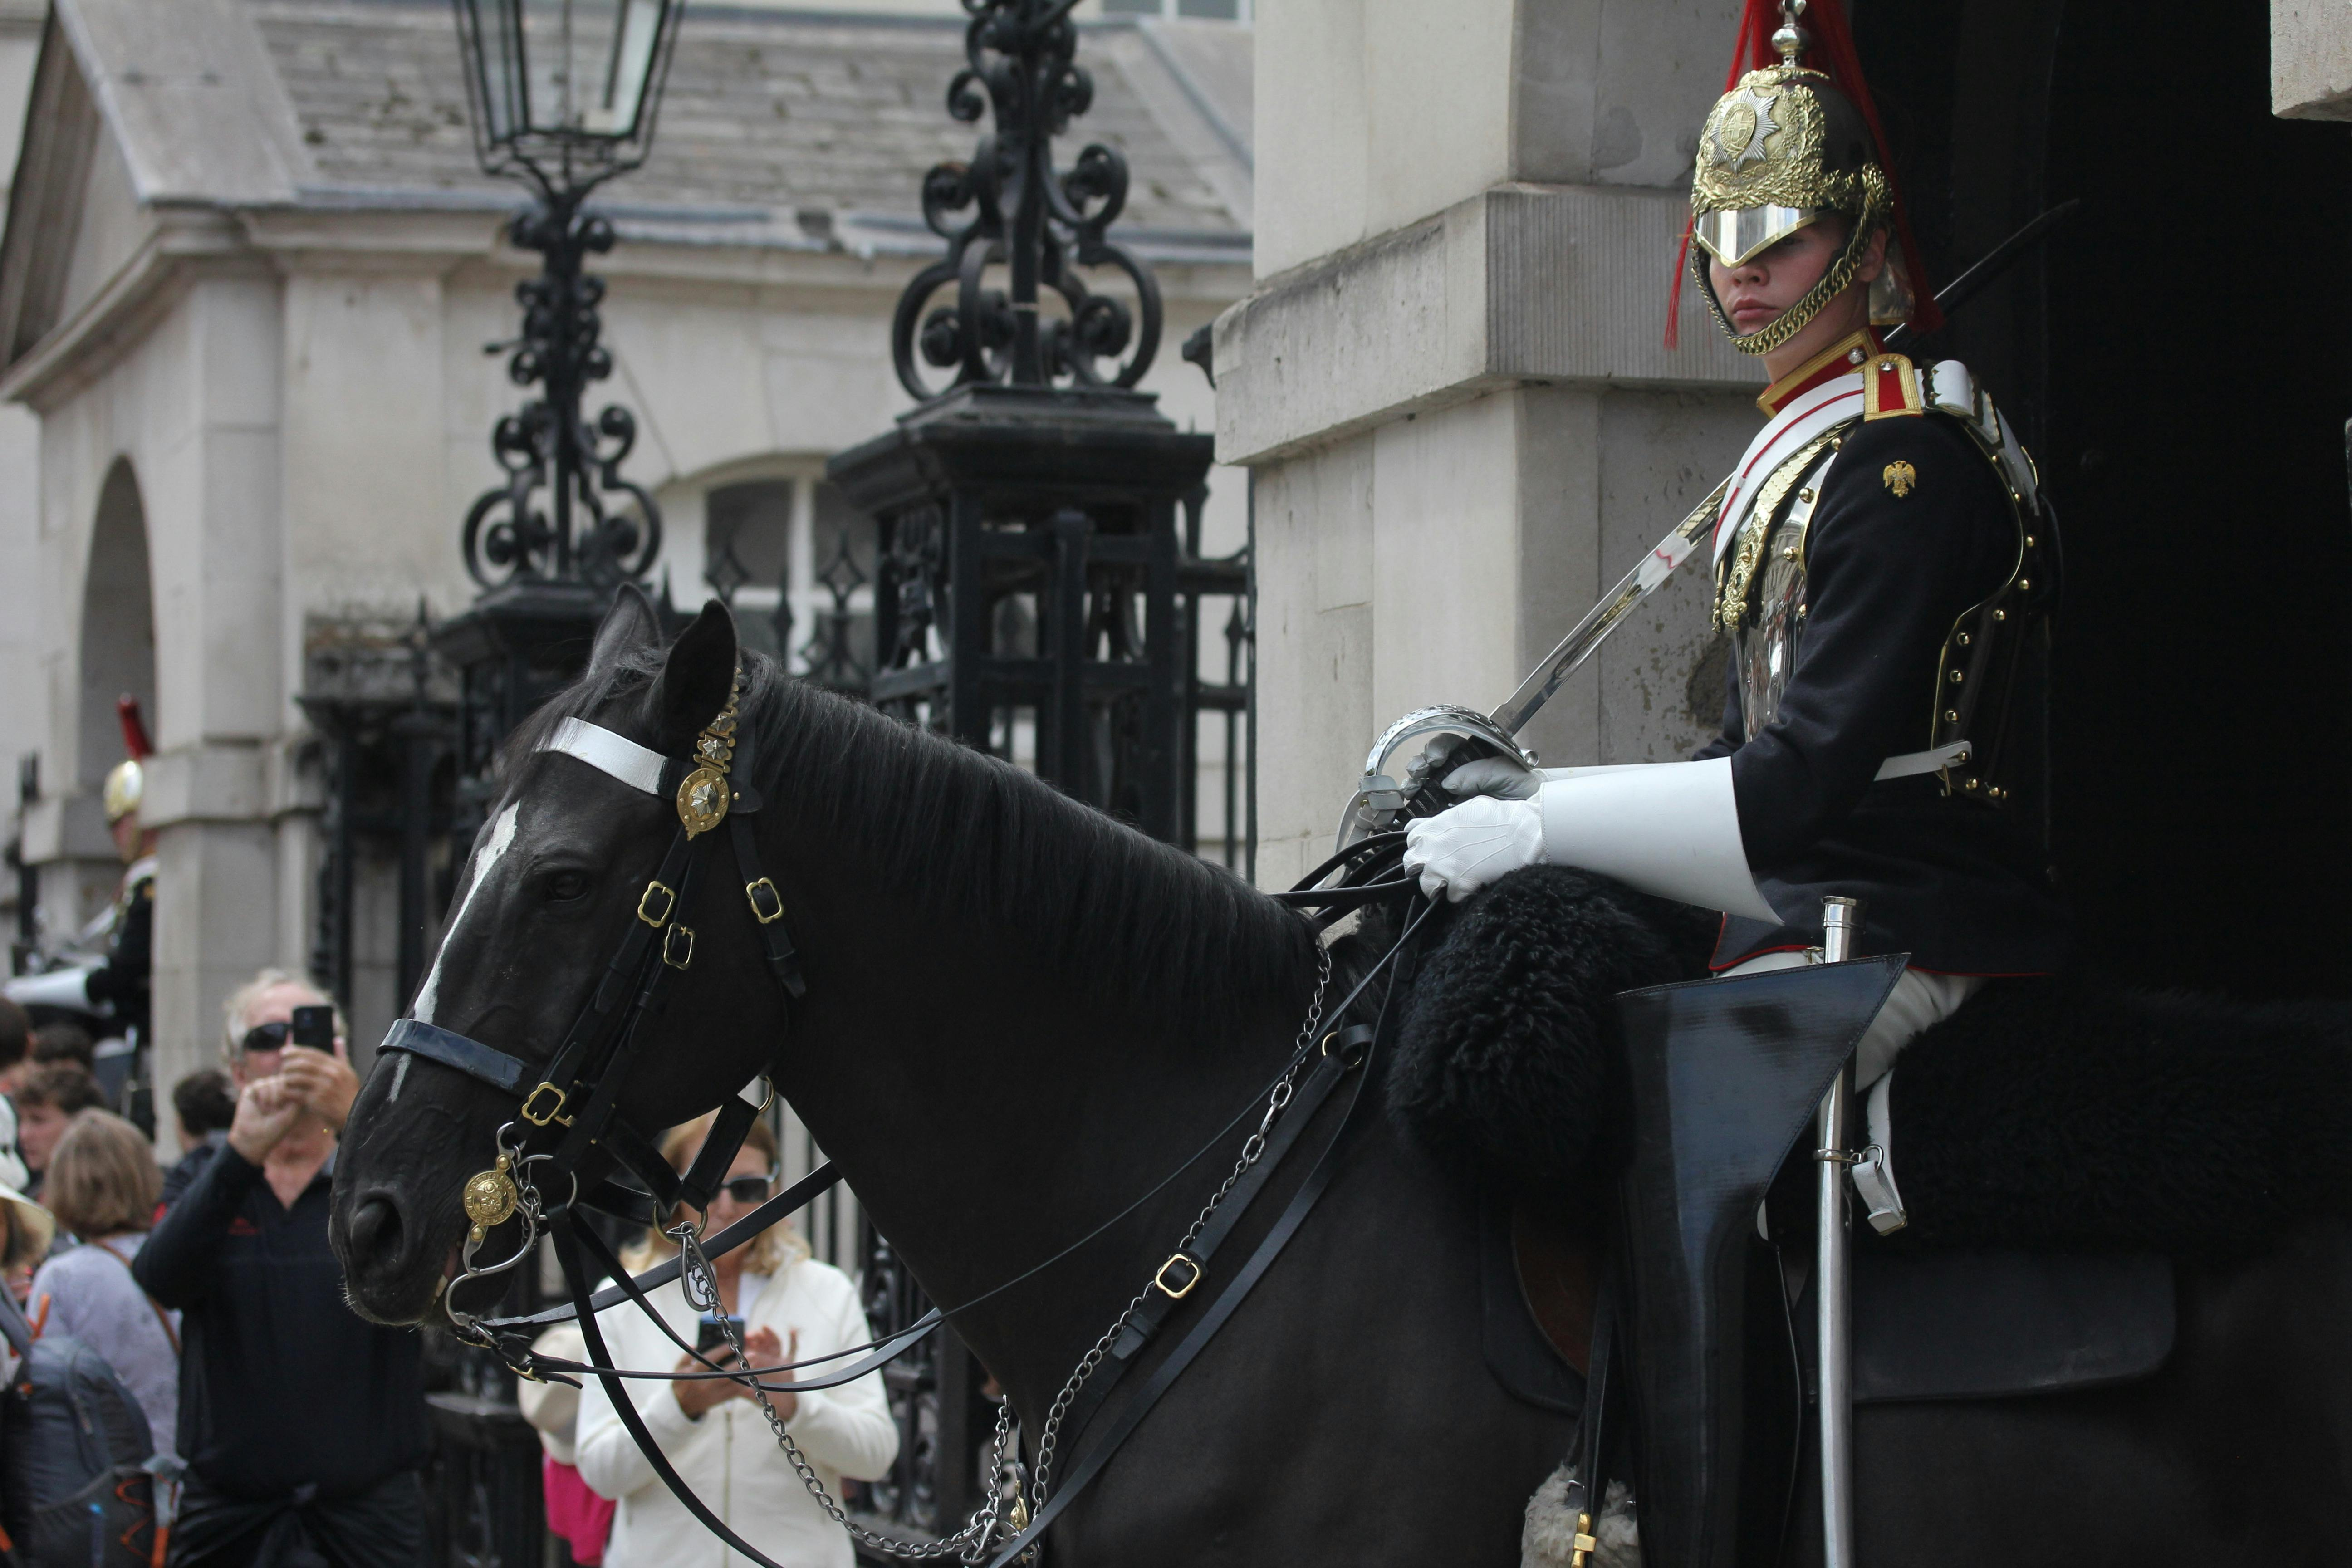capacete: (1685, 0, 1915, 355)
